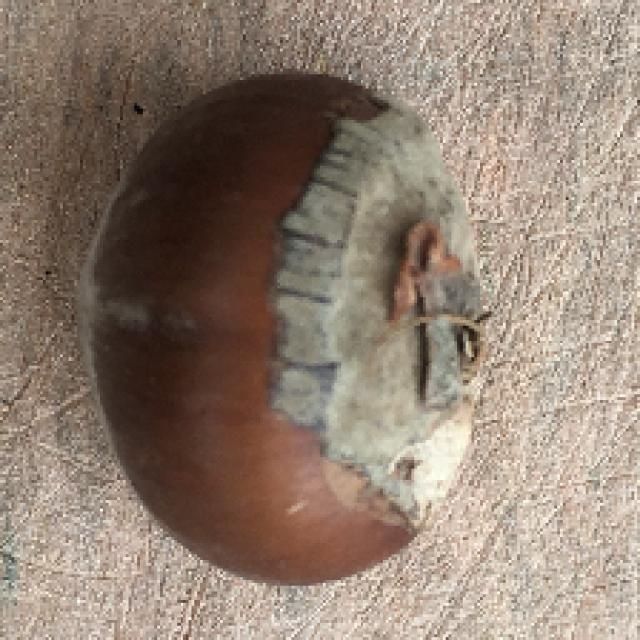DamagedHazelnut: (75, 77, 496, 584)
